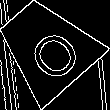O_NW: (13, 14, 79, 80)
